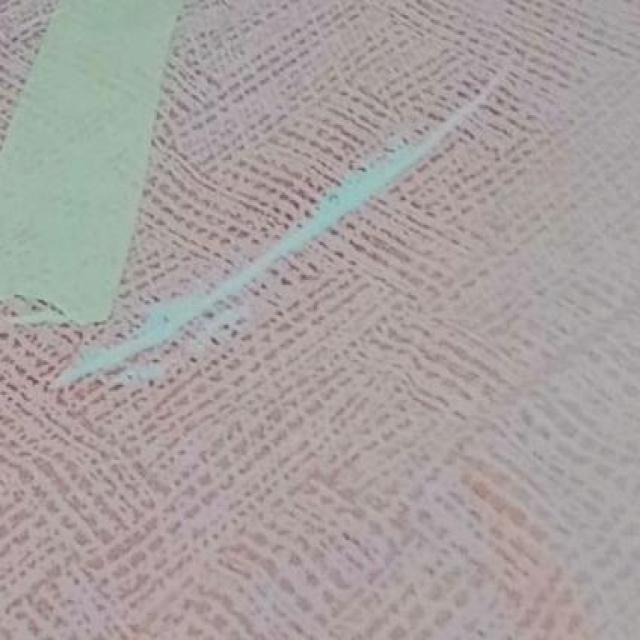selvet: (256, 83, 502, 252), (44, 257, 279, 380)
